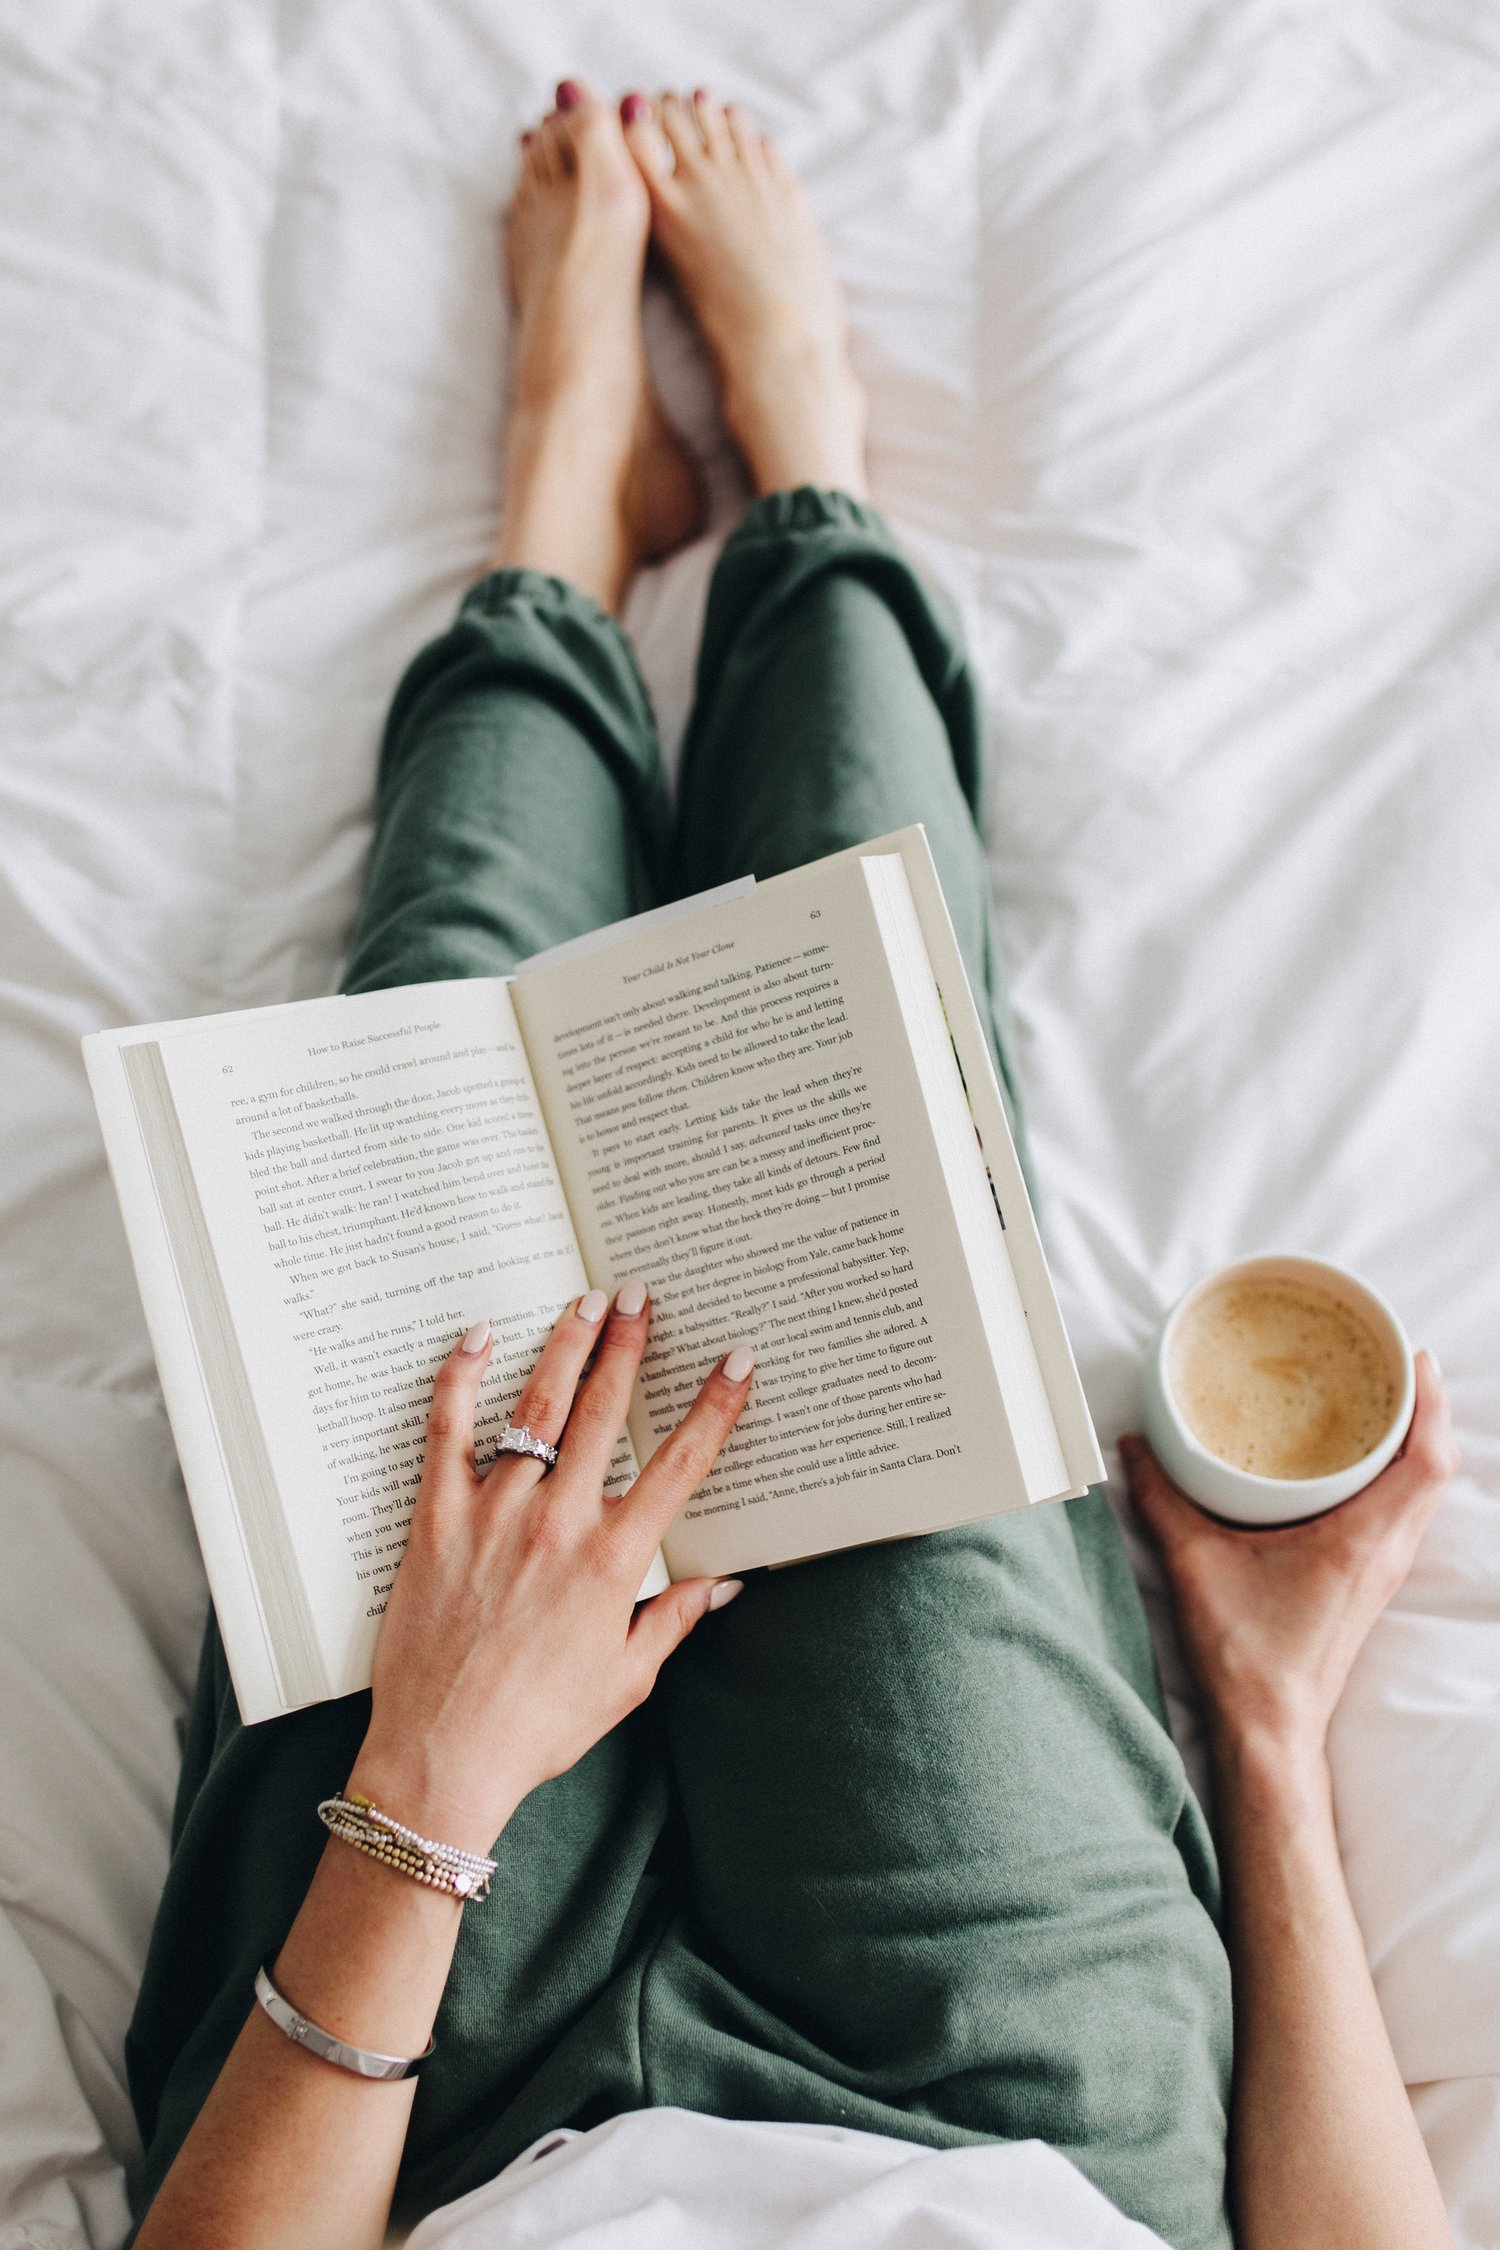book: (60, 800, 1123, 1743)
